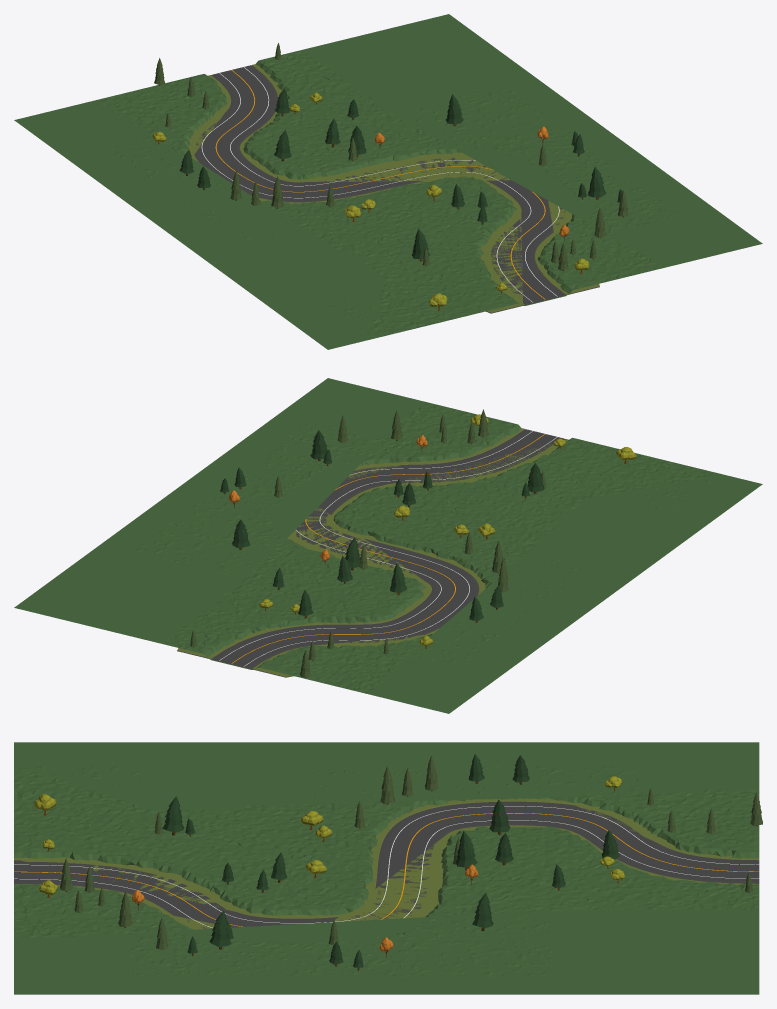
File: ForestRoadStraight3.fbx
3 views of the same model, one above another, from view 1: azimuth 30°, elevation 25°; view 2: azimuth 150°, elevation 25°; view 3: azimuth 270°, elevation 25° (orthographic). The views are drawn at different scales.
Visible parts, largest first — view 1: FRS3Plane, FRS3Road; view 2: FRS3Plane, FRS3Road; view 3: FRS3Plane, FRS3Road, FRS3Plane|pineTree04|Dupli|26, FRS3Plane|pineTree04|Dupli|44, FRS3Plane|pineTree04|Dupli|11, FRS3Plane|pineTree04|Dupli|27, FRS3Plane|pineTree04|Dupli|29.
Boxes of the visible parts, x1,y1,x2,y2 form: FRS3Plane: [14, 14, 762, 349]; FRS3Road: [187, 64, 599, 313]; FRS3Plane: [14, 378, 762, 713]; FRS3Road: [177, 428, 568, 677]; FRS3Plane: [14, 742, 759, 994]; FRS3Road: [14, 798, 759, 929]; FRS3Plane|pineTree04|Dupli|26: [455, 830, 477, 870]; FRS3Plane|pineTree04|Dupli|44: [209, 911, 231, 949]; FRS3Plane|pineTree04|Dupli|11: [162, 796, 184, 835]; FRS3Plane|pineTree04|Dupli|27: [472, 892, 493, 931]; FRS3Plane|pineTree04|Dupli|29: [489, 799, 510, 834].
Size of what is drawn, in the model's own units: 32002 by 2623 by 40195.
